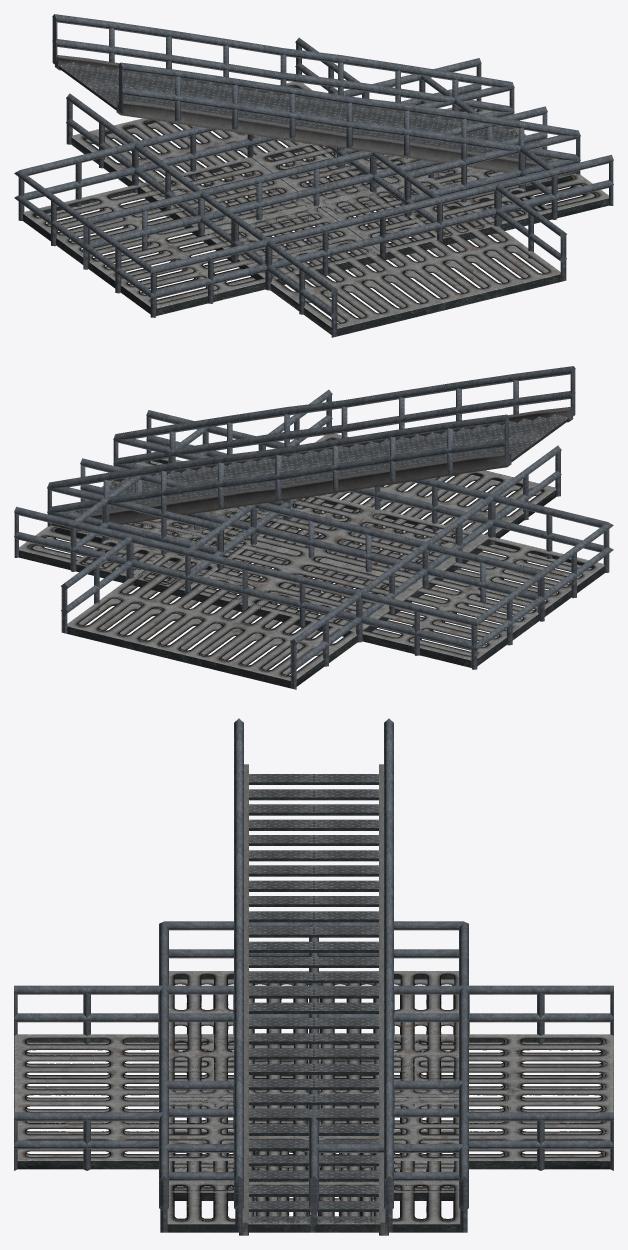
The model's file is platforms_mesh.fbx.
3 renders of one model, top to bottom at view 1: azimuth 30°, elevation 25°; view 2: azimuth 150°, elevation 25°; view 3: azimuth 270°, elevation 25°, orthographic. The views are drawn at different scales.
Parts seen in each view (by area): view 1: platform_TJunction, platform, platform_Stairway_Long, platform_Stairway_Short, platform_Turn, platform_Rail_Long, platform_End, platform_TJunction_Small, platform_Turn_Small, platform_End_Small, platform_Small, platform_Rail_Medium (+3 smaller); view 2: platform_Turn, platform, platform_TJunction, platform_Stairway_Long, platform_Stairway_Short, platform_End, platform_Rail_Long, platform_Turn_Small, platform_End_Small_1Rail_A, platform_TJunction_Small, platform_Small, platform_Rail_Medium (+2 smaller); view 3: platform_TJunction, platform_Stairway_Long, platform_Stairway_Short, platform, platform_Turn, platform_TJunction_Small, platform_End, platform_Turn_Small, platform_Small, platform_Rail_Turn, platform_Rail_Long.
Part boxes in pixels (x1,y1,x2,y2): platform_TJunction: (71,38,613,337); platform: (23,58,608,317); platform_Stairway_Long: (52,14,579,160); platform_Stairway_Short: (283,48,580,179); platform_Turn: (66,47,613,283); platform_Rail_Long: (87,107,547,267); platform_End: (14,134,384,317); platform_TJunction_Small: (310,131,580,244); platform_Turn_Small: (310,75,575,217); platform_End_Small: (342,97,523,214); platform_Small: (344,87,574,216); platform_Rail_Medium: (318,113,546,193); platform_Turn: (14,410,493,689); platform: (14,410,604,667); platform_TJunction: (19,389,561,689); platform_Stairway_Long: (47,366,575,512); platform_Stairway_Short: (47,400,344,531); platform_End: (244,488,613,669); platform_Rail_Long: (80,459,540,616); platform_Turn_Small: (53,439,292,590); platform_End_Small_1Rail_A: (47,487,289,566); platform_TJunction_Small: (54,427,316,596); platform_Small: (56,439,283,569); platform_Rail_Medium: (80,461,311,545); platform_TJunction: (14,985,613,1232); platform_Stairway_Long: (234,718,393,1024); platform_Stairway_Short: (234,947,393,1235); platform: (159,923,468,1232); platform_Turn: (159,986,613,1224); platform_TJunction_Small: (164,1080,458,1232); platform_End: (159,921,468,985); platform_Turn_Small: (251,1080,463,1232); platform_Small: (234,1151,393,1232); platform_Rail_Turn: (309,1144,383,1232); platform_Rail_Long: (309,922,318,1203).
Size of what is drawn, in the model's own units: 1618 by 776 by 1600.
